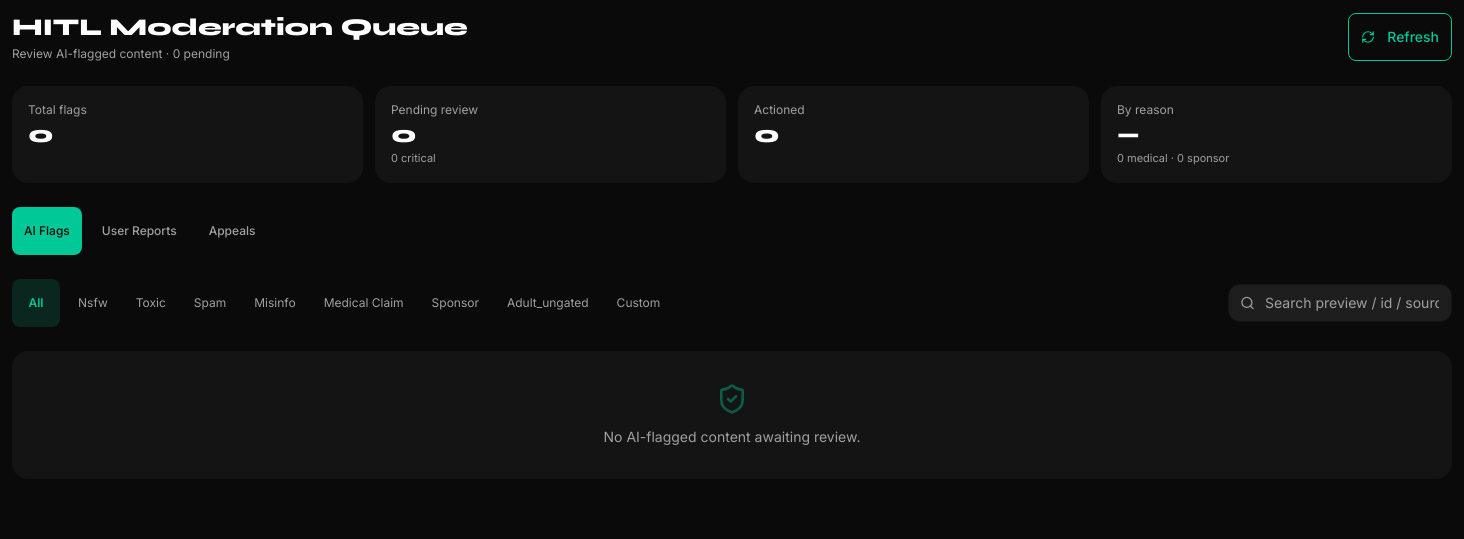
Scenario: ModerationQueue — appeal review sends resolution_note (regression) › asks for a note before an appeal can be denied, too
Click the button "Appeals": (232, 230) [197,206,267,254]
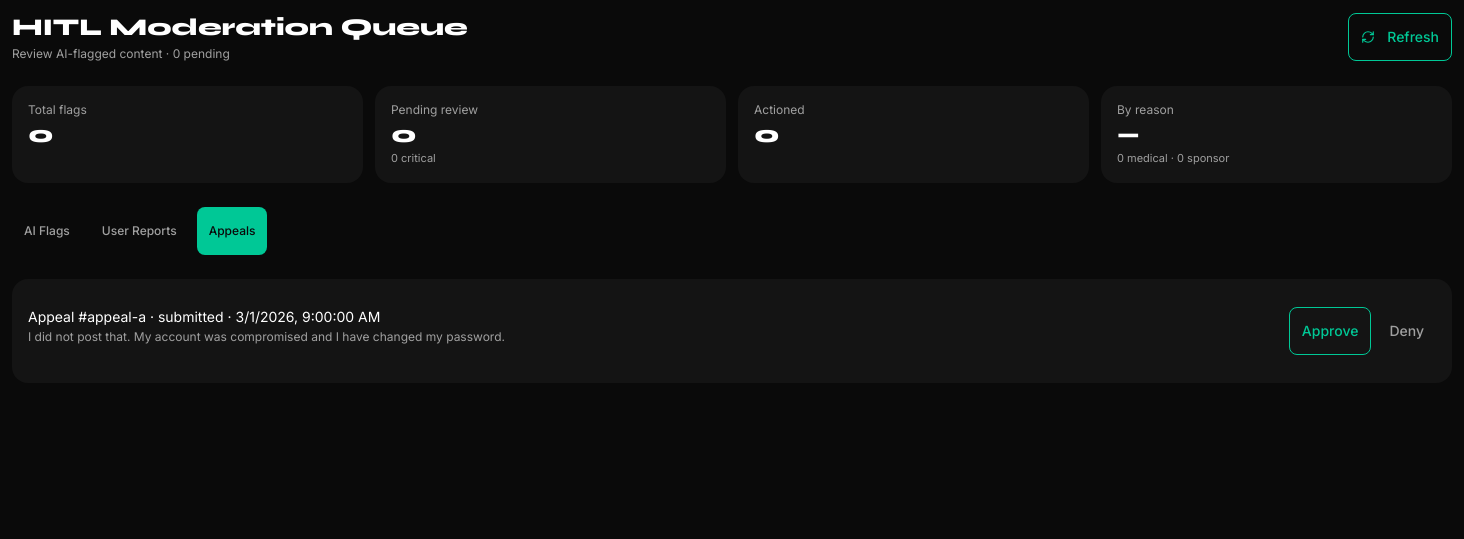
Now the text "Appeal #appeal-a · submitted · 3/1/2026, 9:00:00 AM" is shown, box [28,308,380,324]
Click the button "Deny": (1407, 330) [1377,306,1436,354]
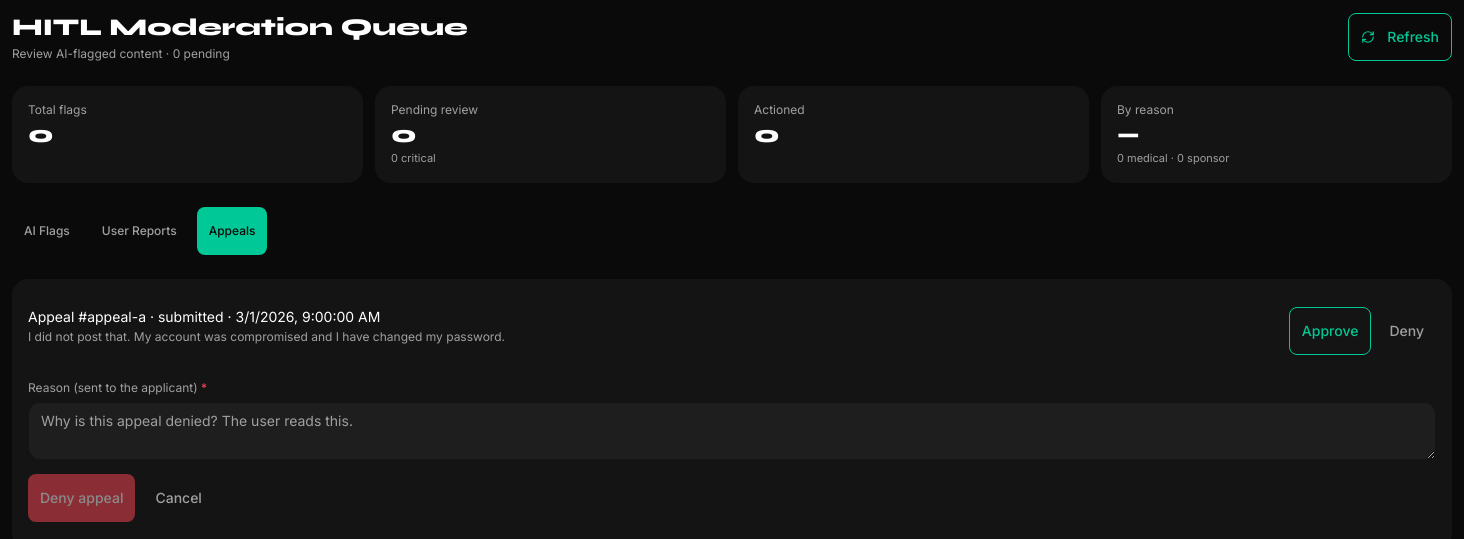
Now the button "Deny appeal" is disabled, box [28,474,135,522]
